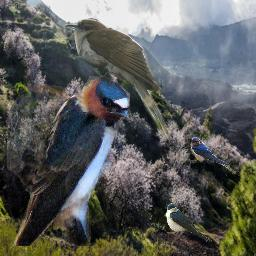Cuckoo: (65, 19, 170, 139)
Swallow: (7, 76, 130, 246), (166, 203, 212, 242), (190, 137, 236, 174)
